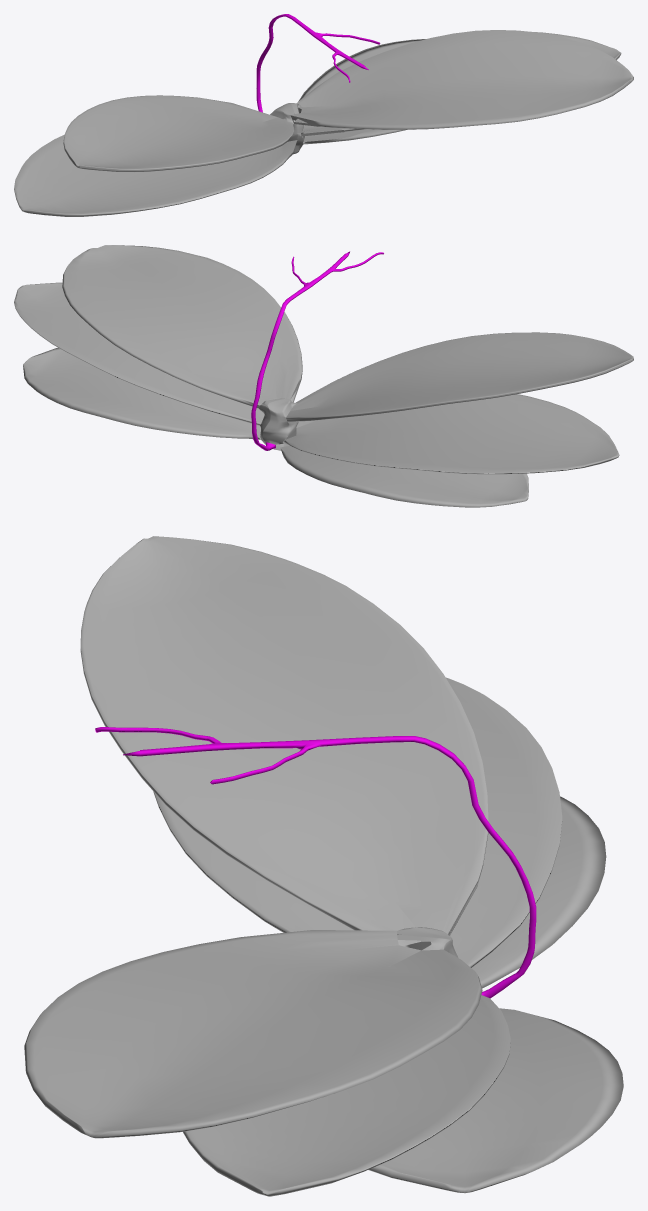
File: plantExport2.fbx
The picture shows the model from 3 angles, top to bottom: view 1: azimuth 30°, elevation 25°; view 2: azimuth 150°, elevation 25°; view 3: azimuth 270°, elevation 25°; orthographic projection. The views are drawn at different scales.
Parts seen in each view (by area): view 1: leafs, stem; view 2: leafs, stem; view 3: leafs, stem.
Boxes of the visible parts, x1=… form: leafs: x1=14, y1=30, x2=633, y2=216; stem: x1=256, y1=14, x2=380, y2=112; leafs: x1=14, y1=245, x2=633, y2=507; stem: x1=251, y1=251, x2=383, y2=450; leafs: x1=24, y1=536, x2=623, y2=1196; stem: x1=95, y1=727, x2=536, y2=998.
Bounding box in the file's own units: 45.95 × 10.43 × 20.12.
